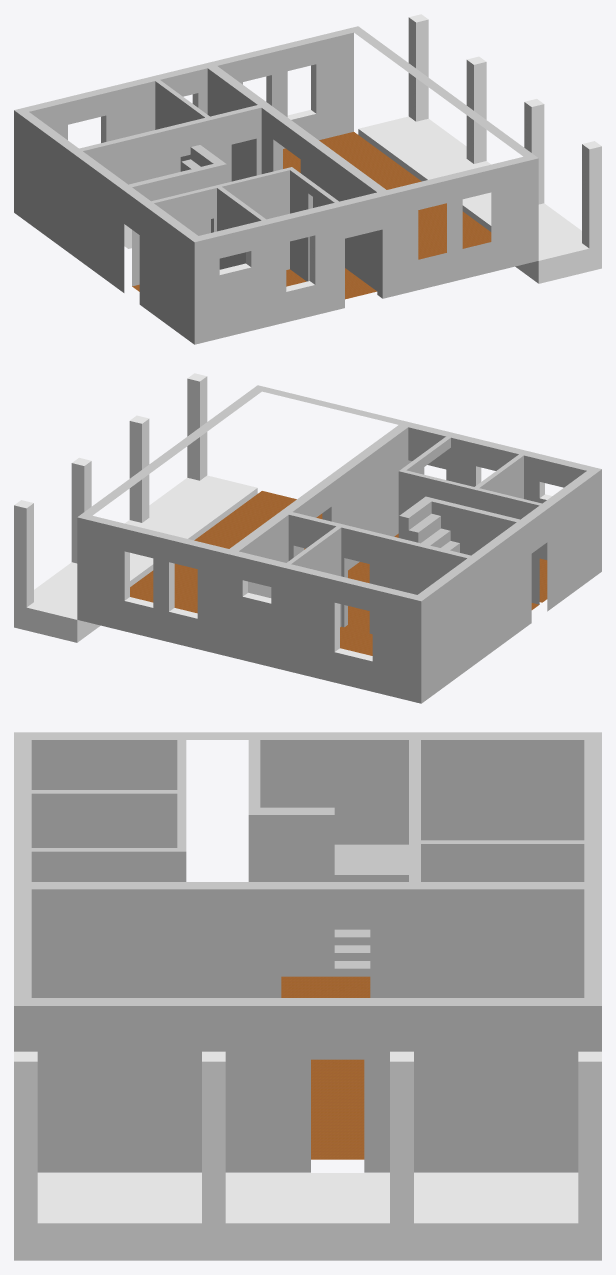
Rendered from house.gltf.
The picture shows the model from 3 angles, top to bottom: view 1: azimuth 30°, elevation 25°; view 2: azimuth 150°, elevation 25°; view 3: azimuth 270°, elevation 25°; orthographic projection. The views are drawn at different scales.
Parts seen in each view (by area): view 1: SketchUp, ID17, ID23, ID42; view 2: SketchUp, ID17, ID23, ID60, ID11; view 3: SketchUp, ID17, ID23.
Part boxes in pixels (bbox=[...]): SketchUp: bbox=[14, 26, 538, 344]; ID17: bbox=[358, 14, 601, 283]; ID23: bbox=[132, 132, 491, 299]; ID42: bbox=[286, 235, 315, 291]; SketchUp: bbox=[77, 385, 601, 703]; ID17: bbox=[14, 373, 257, 642]; ID23: bbox=[130, 491, 547, 655]; ID60: bbox=[334, 603, 372, 661]; ID11: bbox=[124, 551, 153, 607]; SketchUp: bbox=[14, 732, 601, 1172]; ID17: bbox=[14, 1051, 601, 1260]; ID23: bbox=[281, 976, 370, 1159].
Size of the model in its own units: 129 by 38 by 99.
9 materials, 1 textured.
